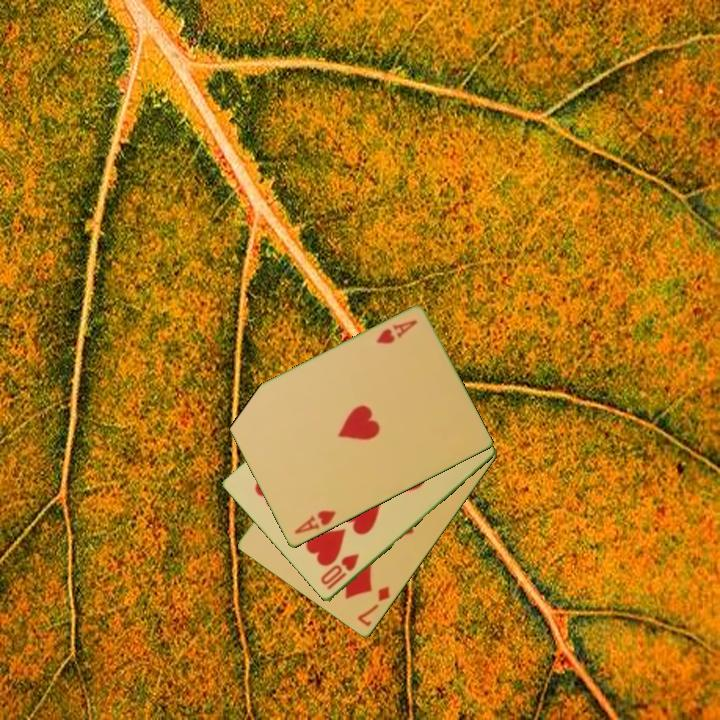10h: (317, 550, 362, 593)
7d: (354, 583, 393, 630)
Ah: (290, 507, 339, 537), (373, 317, 420, 347)
